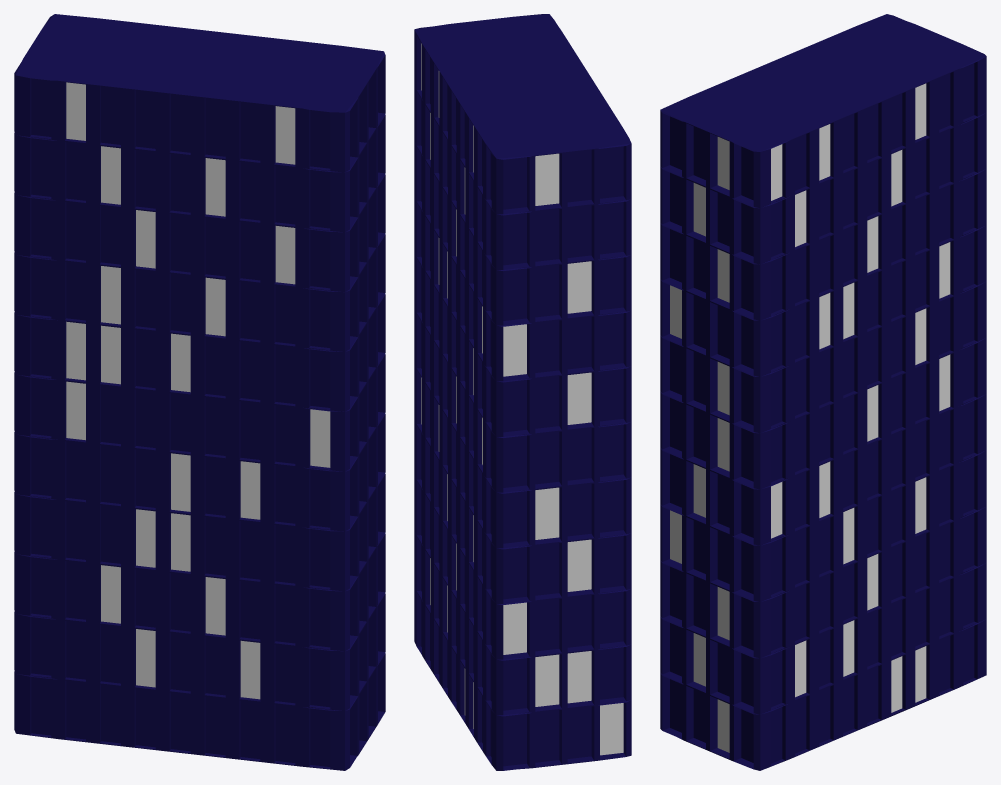
The model's file is Buliding6.fbx.
3 views of the same model, side by side, from view 1: azimuth 30°, elevation 25°; view 2: azimuth 150°, elevation 25°; view 3: azimuth 270°, elevation 25° (orthographic). The views are drawn at different scales.
Parts seen in each view (by area): view 1: Cube.007; view 2: Cube.007; view 3: Cube.007.
Part boxes in pixels (x1,y1,x2,y2): Cube.007: (14, 14, 385, 770); Cube.007: (414, 14, 631, 770); Cube.007: (660, 14, 986, 770).
Size of the model in its own units: 7803 by 16343 by 7803.
